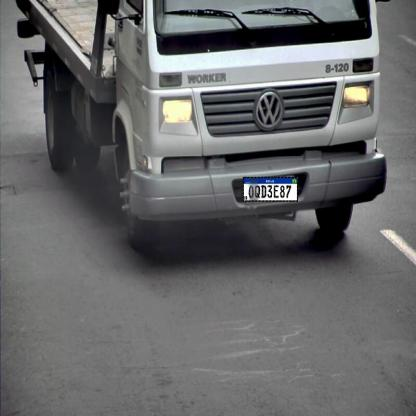PlacaM: (243, 177, 298, 202)
